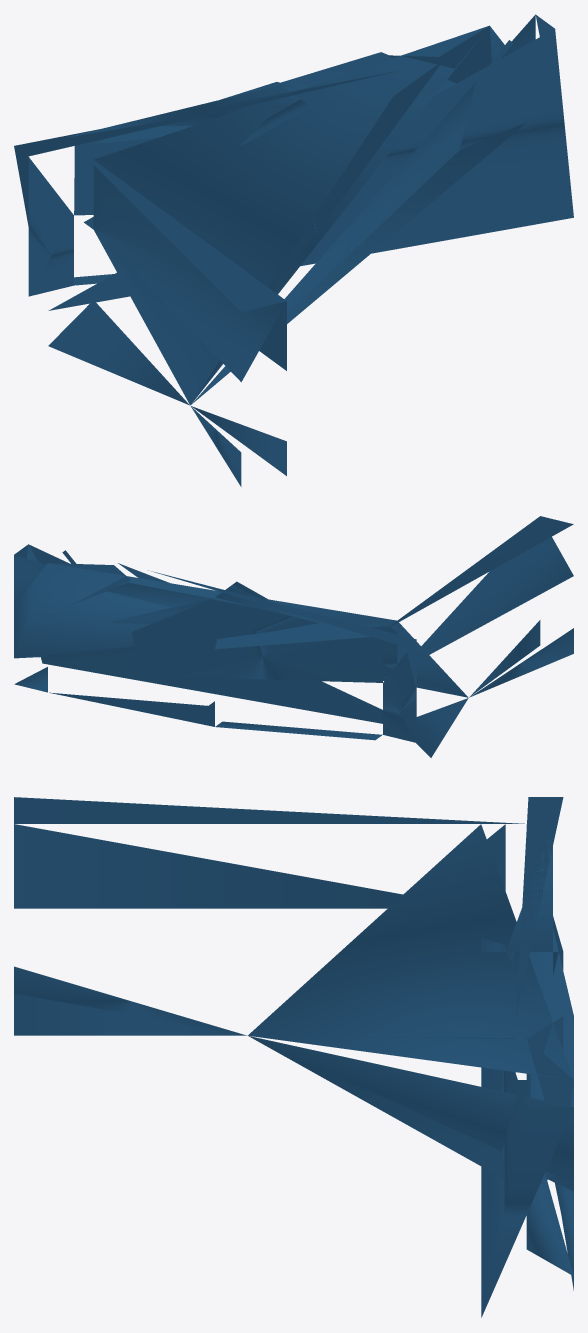
3 views of the same model, one above another, from view 1: azimuth 30°, elevation 25°; view 2: azimuth 150°, elevation 25°; view 3: azimuth 270°, elevation 25° (orthographic). The views are drawn at different scales.
Visible parts, largest first — view 1: Sphere; view 2: Sphere; view 3: Sphere.
Boxes of the visible parts, x1,y1,x2,y2 form: Sphere: (14,14,573,486); Sphere: (14,516,573,757); Sphere: (14,797,573,1317).
Size of the model in its own units: 1570 by 500 by 1199.
